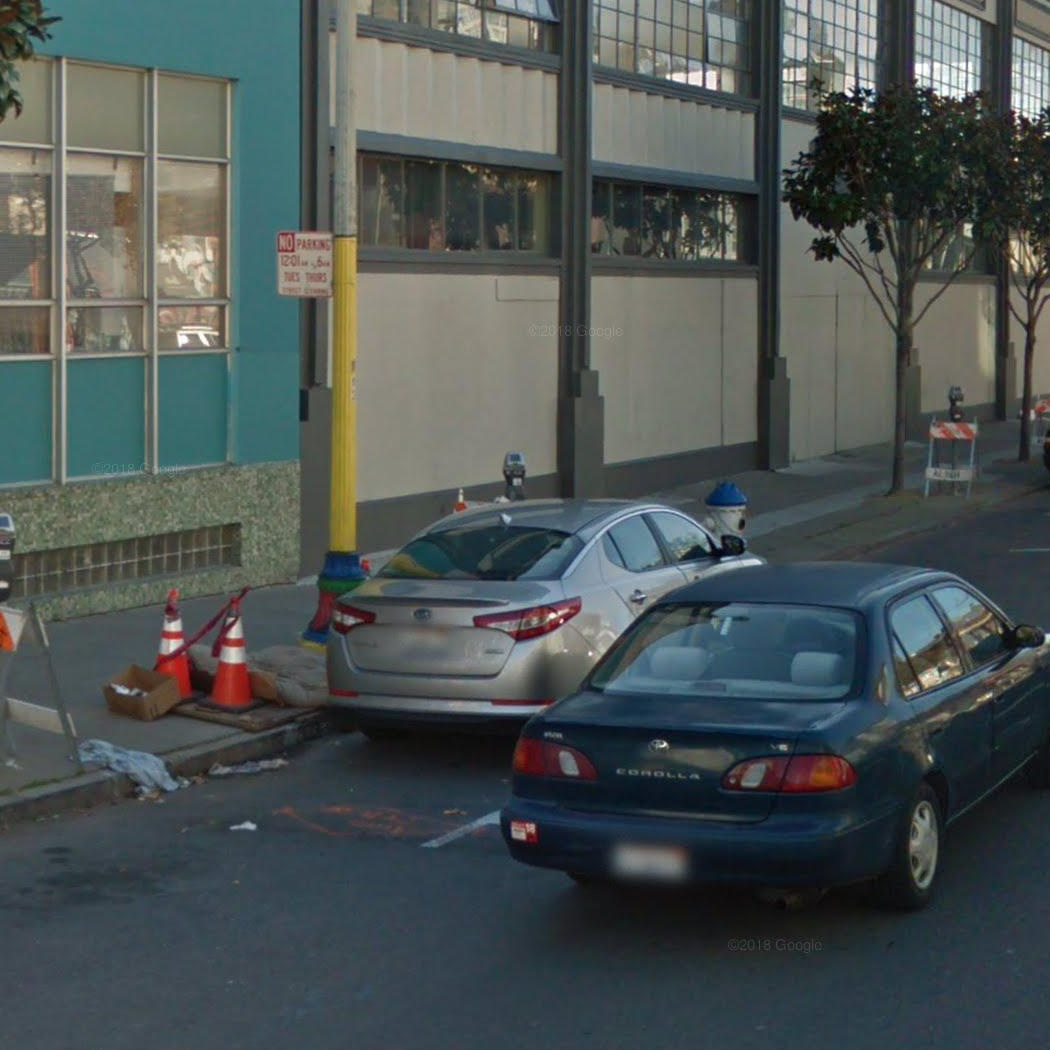No Parking: (275, 230, 337, 300)
